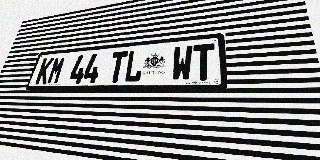4: (68, 54, 89, 84), (82, 53, 103, 83)
K: (35, 57, 55, 85)
L: (123, 49, 145, 82)
M: (46, 56, 66, 84)
T: (192, 43, 215, 81), (107, 51, 128, 83)
W: (171, 45, 193, 81)
